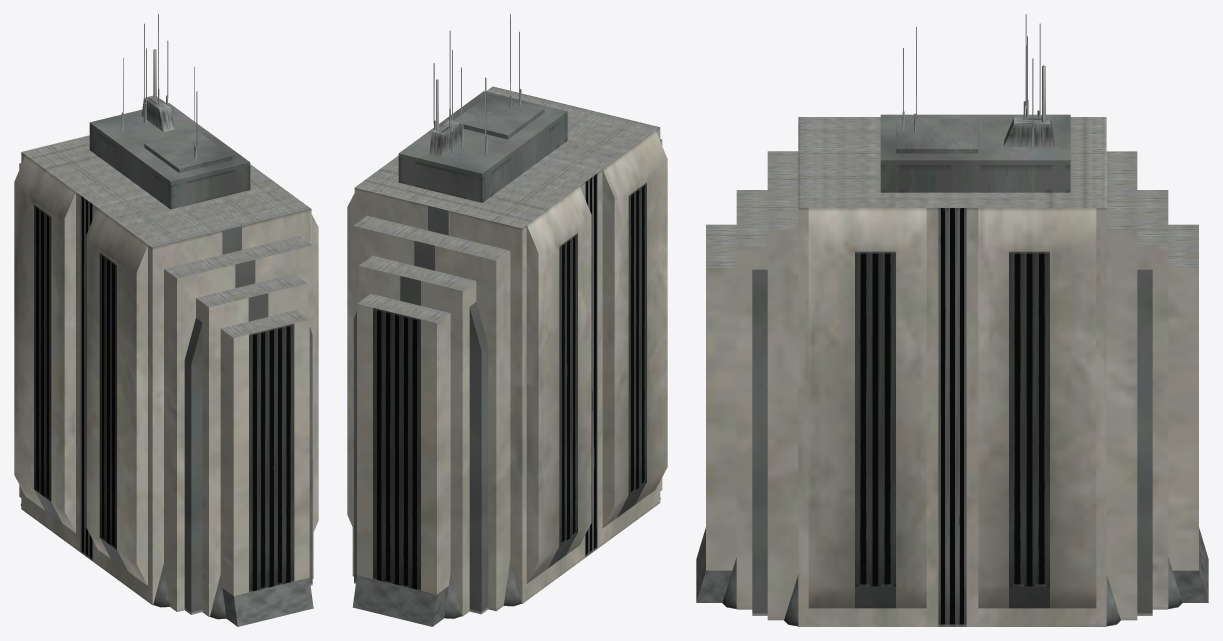
The model's file is thm_corl_imprv_building_s06_r0_mesh_r0_l3.fbx.
3 views of the same model, side by side, from view 1: azimuth 30°, elevation 25°; view 2: azimuth 150°, elevation 25°; view 3: azimuth 270°, elevation 25° (orthographic). The views are drawn at different scales.
Parts seen in each view (by area): view 1: mesh_node; view 2: mesh_node; view 3: mesh_node.
Part boxes in pixels (x1=…): mesh_node: x1=14, y1=14, x2=318, y2=626; mesh_node: x1=347, y1=14, x2=667, y2=626; mesh_node: x1=696, y1=14, x2=1208, y2=626.
Size of the model in its own units: 48 by 125 by 99.8.
Materials: 1 (1 with a texture image).
